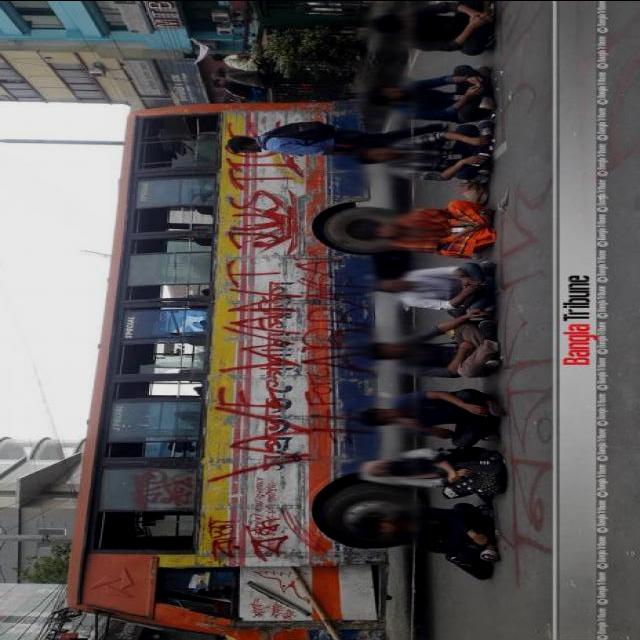bus: (62, 102, 426, 640)
